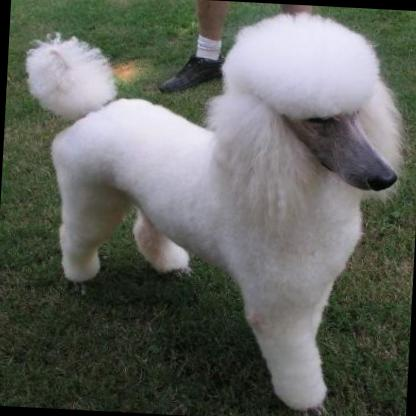standard_poodle: (3, 0, 413, 416)
